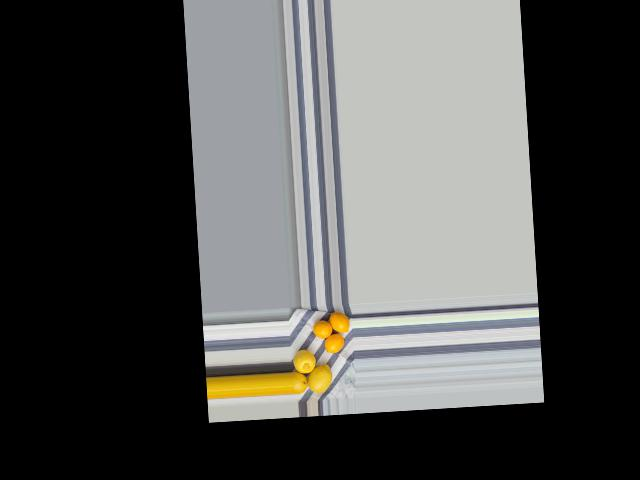lemon: (329, 311, 350, 334)
